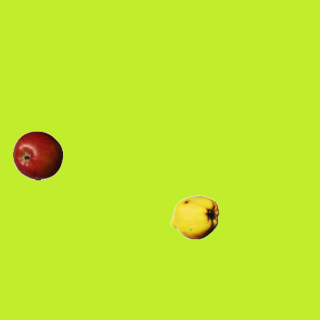Apple Braeburn: (12, 130, 62, 180)
Quince: (169, 192, 219, 242)
